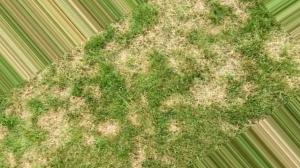patch: (198, 51, 242, 84), (119, 44, 145, 72), (21, 74, 49, 97), (21, 138, 53, 158), (149, 92, 186, 109), (163, 4, 191, 25), (146, 28, 180, 43), (39, 114, 67, 132), (127, 143, 145, 167), (97, 112, 116, 134), (73, 51, 97, 67), (266, 38, 280, 62), (127, 102, 141, 122), (196, 89, 216, 102), (69, 93, 85, 108), (2, 120, 10, 136)
